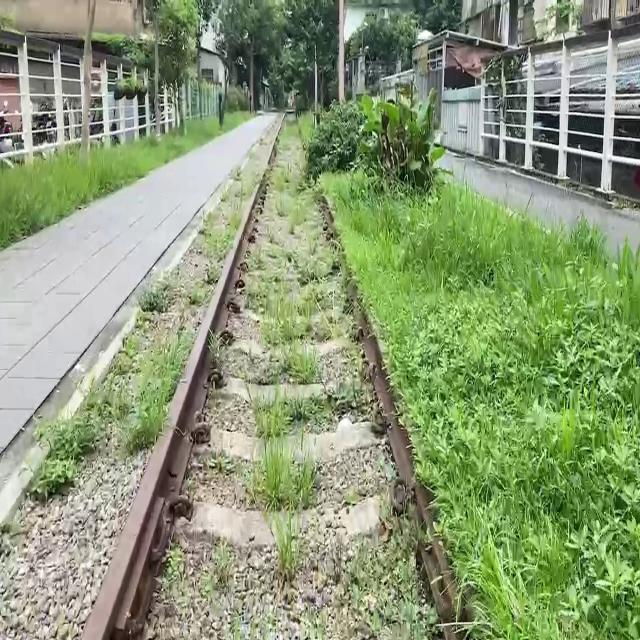rail-track: (142, 121, 439, 639)
